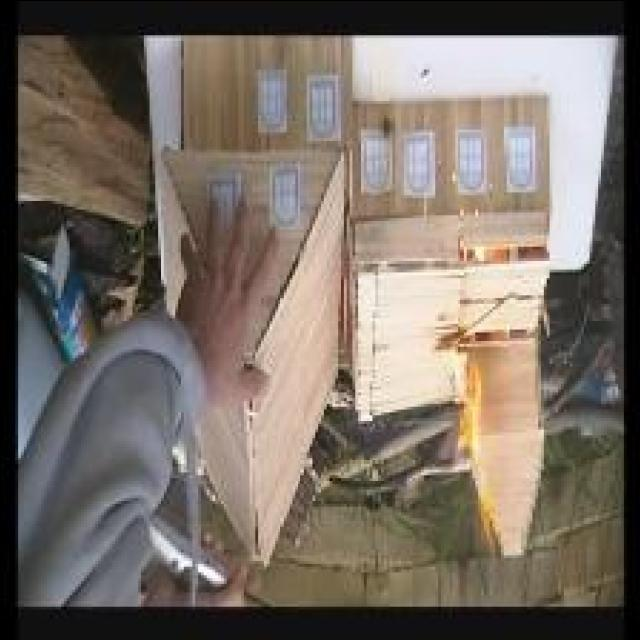Fire: (457, 356, 494, 544)
